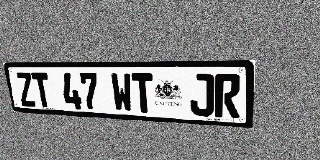4: (60, 73, 83, 109)
7: (78, 73, 101, 110)
J: (190, 74, 214, 117)
R: (215, 74, 241, 118)
T: (131, 73, 155, 113), (31, 73, 53, 108)
W: (110, 73, 134, 112)
Z: (15, 73, 37, 107)
